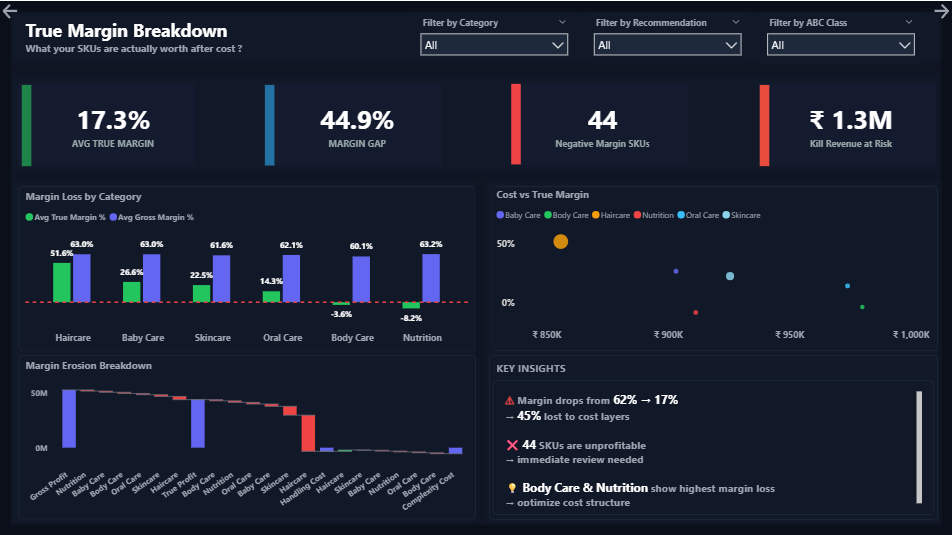

Layout of this report page (visuals, bound fields, positions):
{"tool":"powerbi","page":{"name":"Margin Intelligence","canvas":[1280,720],"ordinal":2},"visuals":[{"type":"shape","box":[14.9,14.9,1250.6,689.3],"z":0},{"type":"shape","box":[15,240.5,628,463.1],"z":1000},{"type":"shape","box":[14.9,14.9,1250.6,68],"z":2000},{"type":"shape","box":[14.9,101.2,1250.6,130],"z":3000},{"type":"shape","box":[652.5,240.5,613.4,463.1],"z":4000},{"type":"textbox","box":[28.6,18,330.8,63.1],"z":5000},{"type":"shape","box":[24.9,111.3,237.3,109.8],"z":6000},{"type":"shape","box":[356.1,111.3,237.3,109.8],"z":7000},{"type":"shape","box":[687.4,112,238,109.8],"z":8000},{"type":"shape","box":[1019.4,112,238,109.8],"z":9000},{"type":"shape","box":[25.6,249.6,613,221],"z":10000},{"type":"shape","box":[25.6,476.6,614.9,221],"z":11000},{"type":"shape","box":[657,476.6,602.9,221],"z":12000},{"type":"clusteredColumnChart","title":"Margin Loss by Category","fields":{"Category":["sku_rationalization_master.category"],"Y":["_Measures _1.Avg True Margin %","_Measures_3.Avg Gross Margin %"]},"box":[28.6,254.1,608,216.5],"z":13000},{"type":"shape","box":[661.5,509.7,592.3,180.4],"z":14000},{"type":"textbox","box":[673.5,520.2,569.8,163.9],"z":15000},{"type":"textbox","box":[661.5,479.6,575.8,30.1],"z":16000},{"type":"waterfallChart","title":"Margin Erosion Breakdown","fields":{"Category":["Margin_Waterfall_Steps.Step"],"Breakdown":["sku_rationalization_master.category"],"Y":["_Measures_3.Waterfall Value"]},"box":[28.6,481.1,607.4,216.5],"z":17000},{"type":"shape","box":[28.9,112.4,12.8,109.2],"z":18000},{"type":"shape","box":[355.9,112.8,13.2,108.4],"z":19000},{"type":"shape","box":[686.9,111.3,13.2,108.4],"z":20000},{"type":"shape","box":[1020.9,112.4,12.8,109.2],"z":21000},{"type":"cardVisual","fields":{"Data":["_Measures _1.Kill Revenue at Risk"]},"box":[1034.4,117.3,219.5,99.2],"z":22000},{"type":"cardVisual","fields":{"Data":["_Measures _1.SKUs Negative Margin"]},"box":[700.6,117.3,219.5,99.2],"z":23000},{"type":"cardVisual","fields":{"Data":["_Measures_3.Margin Gap"]},"box":[369.8,117.3,219.5,99.2],"z":24000},{"type":"cardVisual","fields":{"Data":["_Measures.Avg True Margin %"]},"box":[42.1,117.3,219.5,99.2],"z":25000},{"type":"shape","box":[661.5,249.6,598.4,221],"z":29000},{"type":"scatterChart","title":"Cost vs True Margin","fields":{"X":["_Measures_3.Total Complexity Cost"],"Y":["_Measures _1.Avg True Margin %"],"Series":["sku_rationalization_master.category"],"Size":["Sum(sku_rationalization_master.total_revenue)"]},"box":[661.5,251.1,592.3,216.5],"z":30000},{"type":"actionButton","box":[1250.8,0,28.6,28.6],"z":30001},{"type":"actionButton","box":[0,0,28.6,28.6],"z":30002},{"type":"slicer","fields":{"Values":["sku_rationalization_master.category"]},"box":[554.8,16.5,218,67.7],"z":30003},{"type":"slicer","fields":{"Values":["sku_rationalization_master.abc_class"]},"box":[1020.8,16.5,218,67.7],"z":30004},{"type":"slicer","fields":{"Values":["sku_rationalization_master.recommendation"]},"box":[787.7,16.5,218.2,67.4],"z":30005}]}

Visuals, with their boxes in screenshot pixels (x1, y1, x2, y2), scaled from the page's 1280x720 canvas onto the 952x535 screenshot:
shape: detection(11, 11, 941, 523)
shape: detection(11, 179, 478, 523)
shape: detection(11, 11, 941, 62)
shape: detection(11, 75, 941, 172)
shape: detection(485, 179, 942, 523)
textbox: detection(21, 13, 267, 60)
shape: detection(19, 83, 195, 164)
shape: detection(265, 83, 441, 164)
shape: detection(511, 83, 688, 165)
shape: detection(758, 83, 935, 165)
shape: detection(19, 185, 475, 350)
shape: detection(19, 354, 476, 518)
shape: detection(489, 354, 937, 518)
"Margin Loss by Category" clusteredColumnChart: detection(21, 189, 473, 350)
shape: detection(492, 379, 933, 513)
textbox: detection(501, 387, 925, 508)
textbox: detection(492, 356, 920, 379)
"Margin Erosion Breakdown" waterfallChart: detection(21, 357, 473, 518)
shape: detection(21, 84, 31, 165)
shape: detection(265, 84, 275, 164)
shape: detection(511, 83, 521, 163)
shape: detection(759, 84, 769, 165)
cardVisual - _Measures _1.Kill Revenue at Risk: detection(769, 87, 933, 161)
cardVisual - _Measures _1.SKUs Negative Margin: detection(521, 87, 684, 161)
cardVisual - _Measures_3.Margin Gap: detection(275, 87, 438, 161)
cardVisual - _Measures.Avg True Margin %: detection(31, 87, 195, 161)
shape: detection(492, 185, 937, 350)
"Cost vs True Margin" scatterChart: detection(492, 187, 933, 347)
actionButton: detection(930, 0, 951, 21)
actionButton: detection(0, 0, 21, 21)
slicer - sku_rationalization_master.category: detection(413, 12, 575, 63)
slicer - sku_rationalization_master.abc_class: detection(759, 12, 921, 63)
slicer - sku_rationalization_master.recommendation: detection(586, 12, 748, 62)
